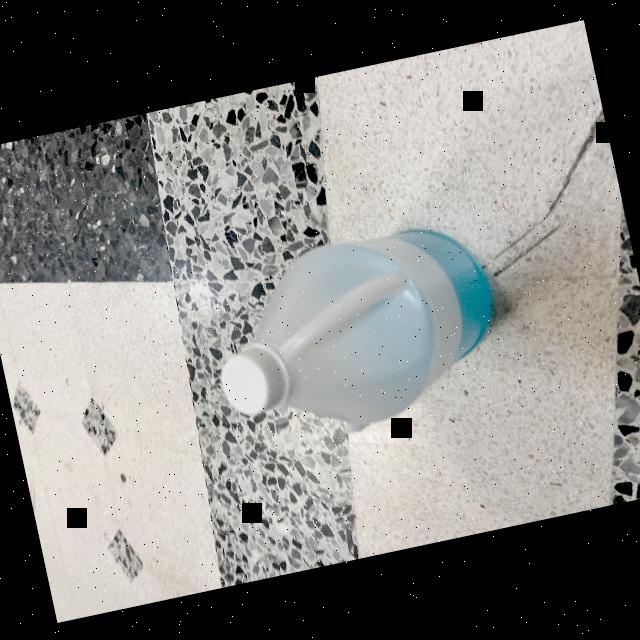chemical_plastic_gallon: (194, 194, 528, 466)
